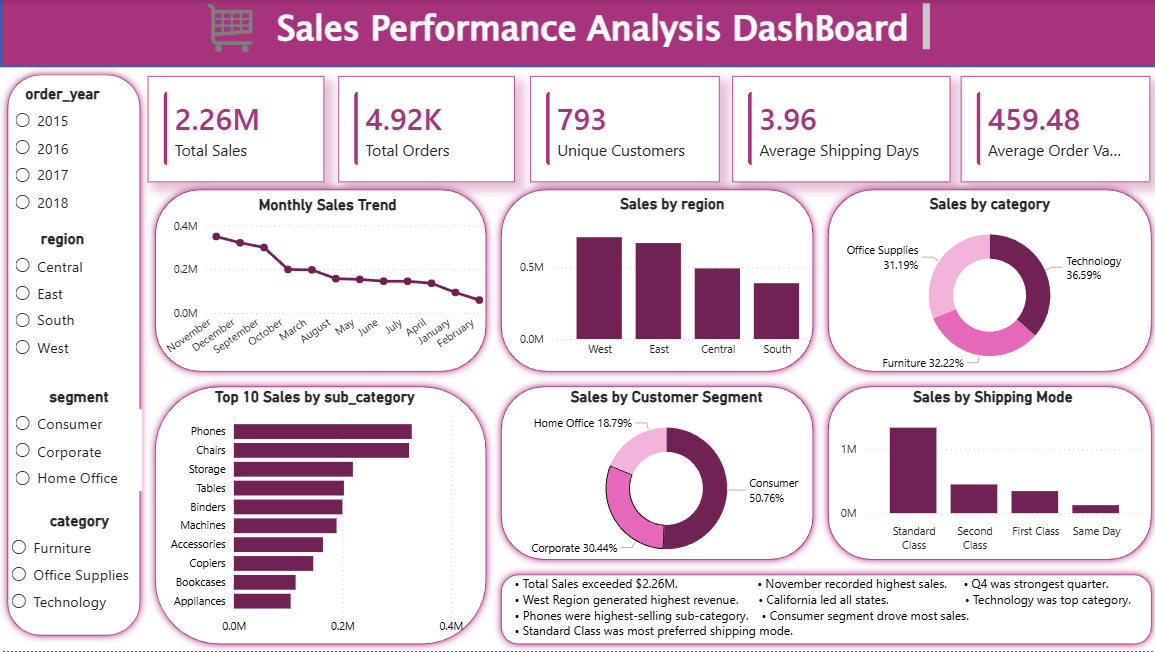

The dashboard page shown, as its layout file describes it:
{"tool":"powerbi","page":{"name":"Page 1","canvas":[1280,720],"ordinal":0},"visuals":[{"type":"shape","box":[0,0,1279.4,75.3],"z":0},{"type":"shape","box":[0,75.3,163.1,635.5],"z":1000},{"type":"textbox","box":[202.1,0,963.1,75.3],"z":2000},{"type":"cardVisual","fields":{"Data":["_measures.Total Sales"]},"box":[163.1,85,195.1,117.1],"z":3000},{"type":"cardVisual","fields":{"Data":["_measures.Total Orders"]},"box":[373.5,85,195.1,117.1],"z":4000},{"type":"cardVisual","fields":{"Data":["_measures.Unique Customers"]},"box":[585.4,85,209.1,117.1],"z":5000},{"type":"cardVisual","fields":{"Data":["_measures.Average Order Value"]},"box":[1060.6,85,209.1,117.1],"z":6000},{"type":"cardVisual","fields":{"Data":["_measures.Average Shipping Days"]},"box":[808.4,85,241.1,117.1],"z":7000},{"type":"shape","box":[163.1,202.1,381.9,217.4],"z":8000},{"type":"lineChart","title":"Monthly Sales Trend","fields":{"Y":["_measures.Total Sales"],"Category":["sales_performance_analysis.order_month"]},"box":[178.4,217.4,366.5,189.5],"z":9000},{"type":"shape","box":[544.9,202.1,361,217.4],"z":10000},{"type":"shape","box":[905.9,202.1,373.5,217.4],"z":11000},{"type":"columnChart","title":"Sales by Region","fields":{"Category":["sales_performance_analysis.region"],"Y":["_measures.Total Sales"]},"box":[568.6,216,347,189.5],"z":12000},{"type":"donutChart","title":"Sales by Category","fields":{"Category":["sales_performance_analysis.category"],"Y":["_measures.Total Sales"]},"box":[915.7,216,354,203.5],"z":13000},{"type":"shape","box":[905.9,419.5,373.5,207.7],"z":14000},{"type":"shape","box":[544.9,419.5,361,207.7],"z":15000},{"type":"shape","box":[544.9,627.2,734.5,93.4],"z":16000},{"type":"shape","box":[163.1,419.5,381.9,301],"z":17000},{"type":"barChart","title":"Top 10 Sales by Sub_Category","fields":{"Category":["sales_performance_analysis.sub_category"],"Y":["_measures.Total Sales"]},"box":[178.4,429.3,338.7,281.5],"z":18000},{"type":"donutChart","title":"Sales by Customer Segment","fields":{"Y":["_measures.Total Sales"],"Category":["sales_performance_analysis.segment"]},"box":[558.9,429.3,354,203.5],"z":19000},{"type":"columnChart","title":"Sales by Shipping Mode","fields":{"Category":["sales_performance_analysis.ship_mode"],"Y":["_measures.Total Sales"]},"box":[922.6,429.3,347,189.5],"z":20000},{"type":"listSlicer","fields":{"Values":["sales_performance_analysis.order_year"]},"box":[11.1,94.8,115.7,161.7],"z":21000},{"type":"listSlicer","fields":{"Values":["sales_performance_analysis.region"]},"box":[11.1,255.1,115.7,150.5],"z":22000},{"type":"listSlicer","fields":{"Values":["sales_performance_analysis.segment"]},"box":[11.1,429.3,151.9,128.2],"z":23000},{"type":"listSlicer","fields":{"Values":["sales_performance_analysis.category"]},"box":[7,565.8,161.7,122.6],"z":24000},{"type":"textbox","box":[563.1,631.4,701,79.4],"z":25000},{"type":"image","box":[103.1,0,90.6,64.1],"z":25001}]}

Visuals, with their boxes in screenshot pixels (x1, y1, x2, y2), scaled from the page's 1280x720 canvas onto the 1155x652 screenshot:
shape: {"left": 0, "top": 0, "right": 1154, "bottom": 68}
shape: {"left": 0, "top": 68, "right": 147, "bottom": 644}
textbox: {"left": 182, "top": 0, "right": 1051, "bottom": 68}
cardVisual - _measures.Total Sales: {"left": 147, "top": 77, "right": 323, "bottom": 183}
cardVisual - _measures.Total Orders: {"left": 337, "top": 77, "right": 513, "bottom": 183}
cardVisual - _measures.Unique Customers: {"left": 528, "top": 77, "right": 717, "bottom": 183}
cardVisual - _measures.Average Order Value: {"left": 957, "top": 77, "right": 1146, "bottom": 183}
cardVisual - _measures.Average Shipping Days: {"left": 729, "top": 77, "right": 947, "bottom": 183}
shape: {"left": 147, "top": 183, "right": 492, "bottom": 380}
"Monthly Sales Trend" lineChart: {"left": 161, "top": 197, "right": 492, "bottom": 368}
shape: {"left": 492, "top": 183, "right": 817, "bottom": 380}
shape: {"left": 817, "top": 183, "right": 1154, "bottom": 380}
"Sales by Region" columnChart: {"left": 513, "top": 196, "right": 826, "bottom": 367}
"Sales by Category" donutChart: {"left": 826, "top": 196, "right": 1146, "bottom": 380}
shape: {"left": 817, "top": 380, "right": 1154, "bottom": 568}
shape: {"left": 492, "top": 380, "right": 817, "bottom": 568}
shape: {"left": 492, "top": 568, "right": 1154, "bottom": 651}
shape: {"left": 147, "top": 380, "right": 492, "bottom": 651}
"Top 10 Sales by Sub_Category" barChart: {"left": 161, "top": 389, "right": 467, "bottom": 644}
"Sales by Customer Segment" donutChart: {"left": 504, "top": 389, "right": 824, "bottom": 573}
"Sales by Shipping Mode" columnChart: {"left": 833, "top": 389, "right": 1146, "bottom": 560}
listSlicer - sales_performance_analysis.order_year: {"left": 10, "top": 86, "right": 114, "bottom": 232}
listSlicer - sales_performance_analysis.region: {"left": 10, "top": 231, "right": 114, "bottom": 367}
listSlicer - sales_performance_analysis.segment: {"left": 10, "top": 389, "right": 147, "bottom": 505}
listSlicer - sales_performance_analysis.category: {"left": 6, "top": 512, "right": 152, "bottom": 623}
textbox: {"left": 508, "top": 572, "right": 1141, "bottom": 644}
image: {"left": 93, "top": 0, "right": 175, "bottom": 58}
